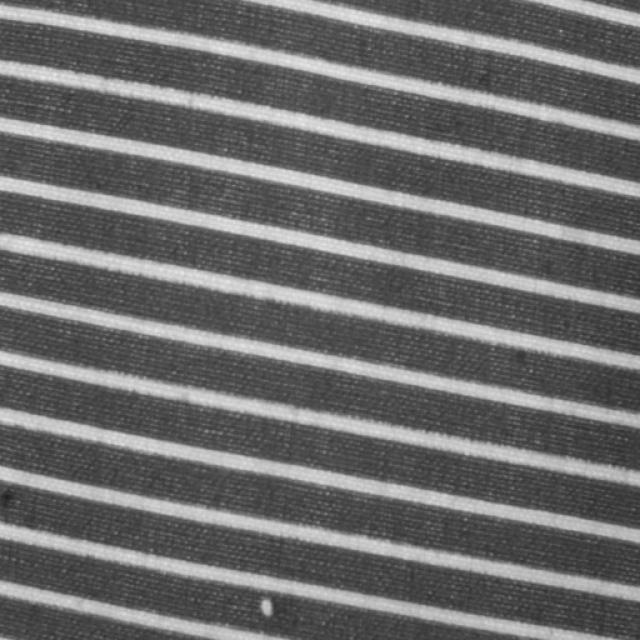Thread-Defect: (251, 592, 282, 636)
